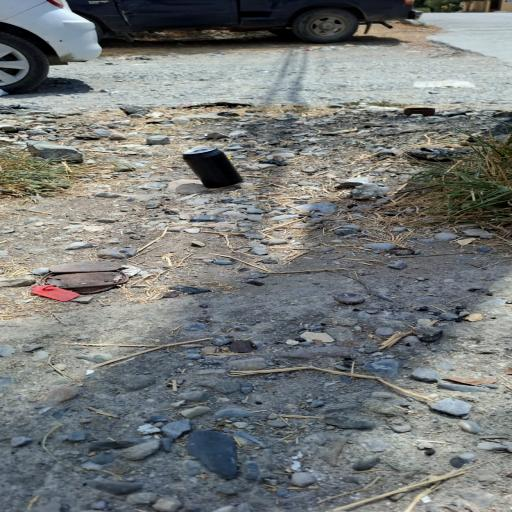LATA: (141, 145, 254, 194)
